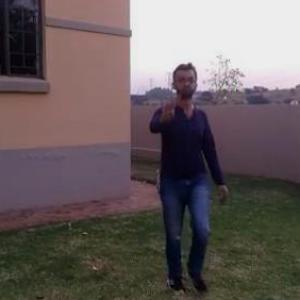takeoff-hand: (157, 99, 181, 127)
